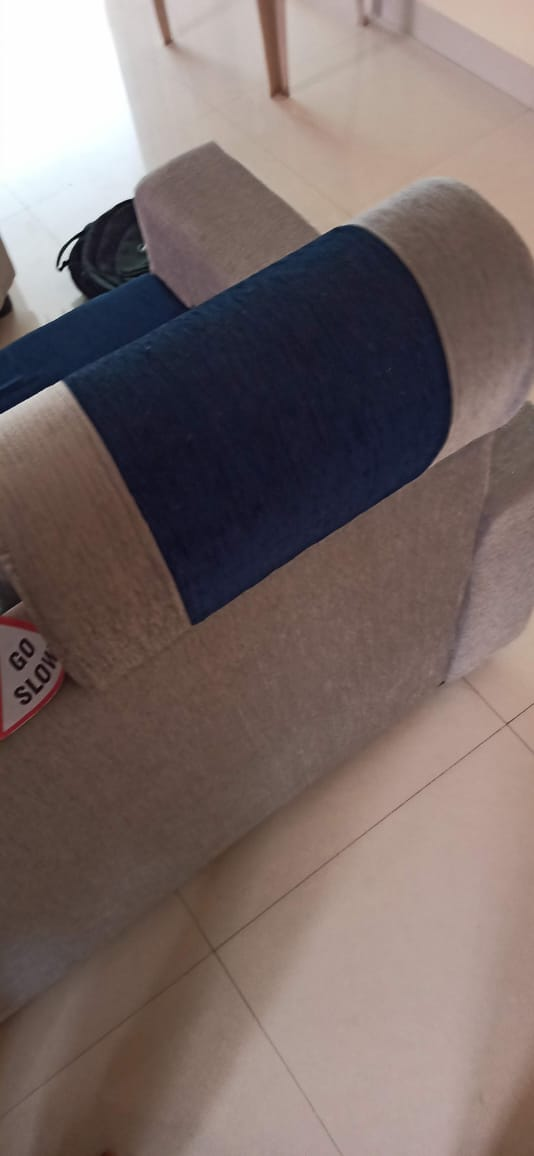GO SLOW: (1, 607, 76, 750)
